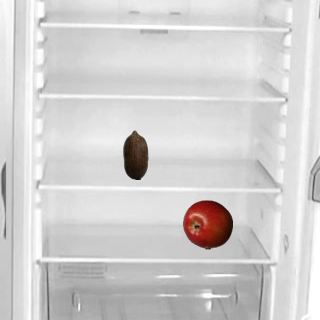Apple Braeburn: (182, 199, 232, 249)
Nut Pecan: (110, 129, 160, 179)
